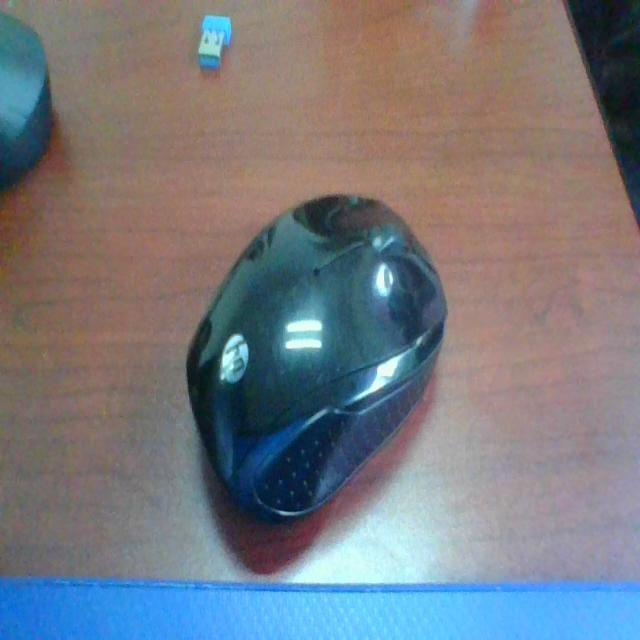mouse: (177, 180, 461, 540)
